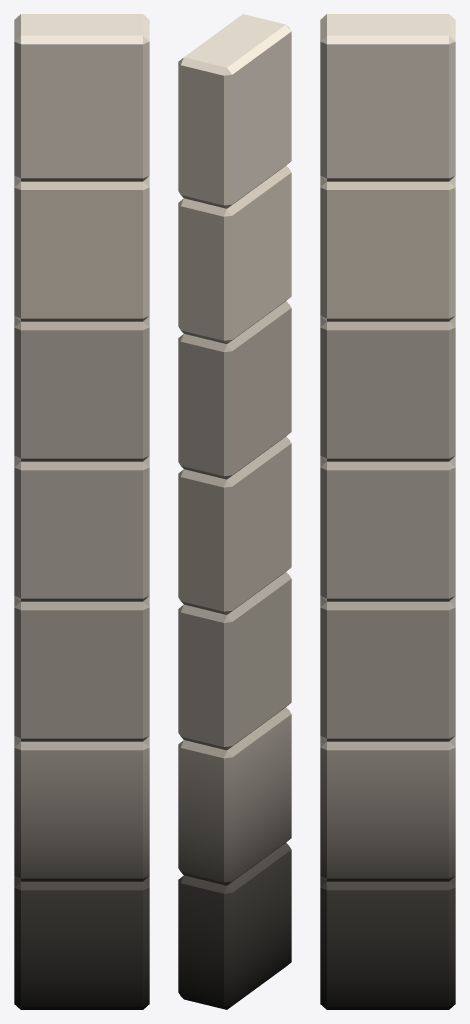
File: SM_VKI_Post_Bars_Mid_Full.fbx
The picture shows the model from 3 angles, left to right: view 1: azimuth 90°, elevation 25°; view 2: azimuth 150°, elevation 25°; view 3: azimuth 270°, elevation 25°; orthographic projection. The views are drawn at different scales.
Visible parts, largest first — view 1: SM_VKI_Post_Bars_Mid_Full.001; view 2: SM_VKI_Post_Bars_Mid_Full.001; view 3: SM_VKI_Post_Bars_Mid_Full.001.
Boxes of the visible parts, box(x1,y1,x2,y2) form: SM_VKI_Post_Bars_Mid_Full.001: box(14, 14, 149, 1009); SM_VKI_Post_Bars_Mid_Full.001: box(178, 14, 291, 1009); SM_VKI_Post_Bars_Mid_Full.001: box(320, 14, 455, 1009).
Bounding box in the file's own units: 0.2 × 3.34 × 0.42.
